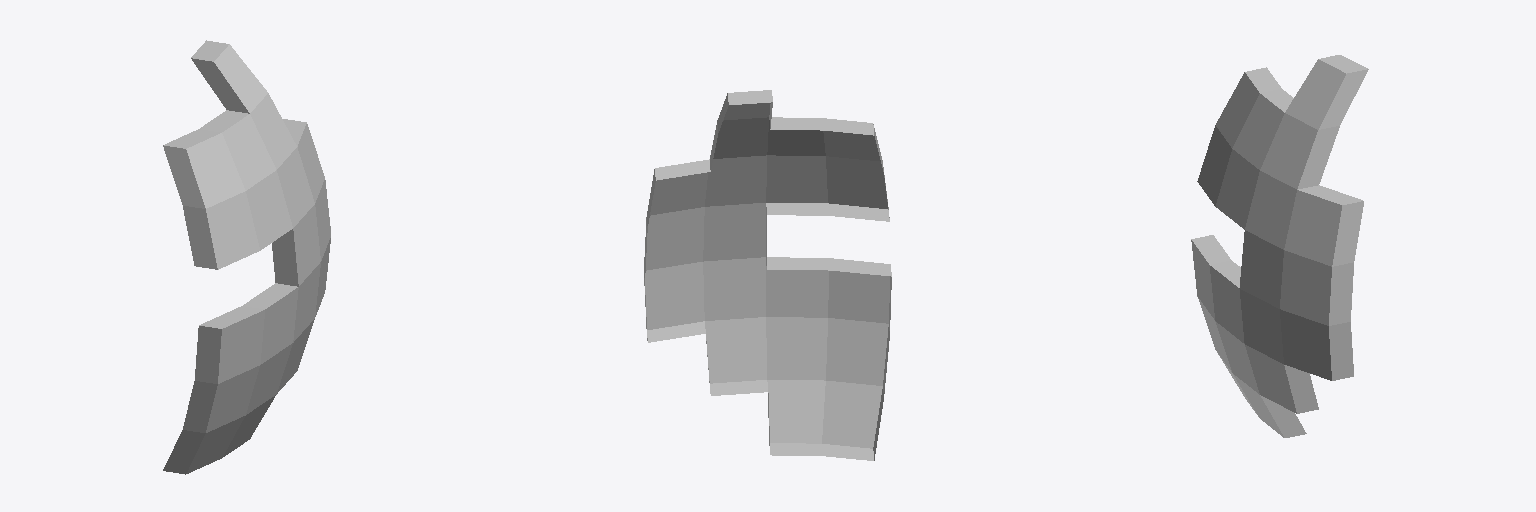
The model's file is cont4.obj.
3 renders of one model, left to right at view 1: azimuth 30°, elevation 25°; view 2: azimuth 150°, elevation 25°; view 3: azimuth 270°, elevation 25°, orthographic.
Parts seen in each view (by area): view 1: Cont4; view 2: Cont4; view 3: Cont4.
Boxes of the visible parts, <box> form: Cont4: <box>163,40,330,474</box>; Cont4: <box>644,90,891,460</box>; Cont4: <box>1191,55,1368,437</box>.
Bounding box in the file's own units: 190 × 338 × 146.